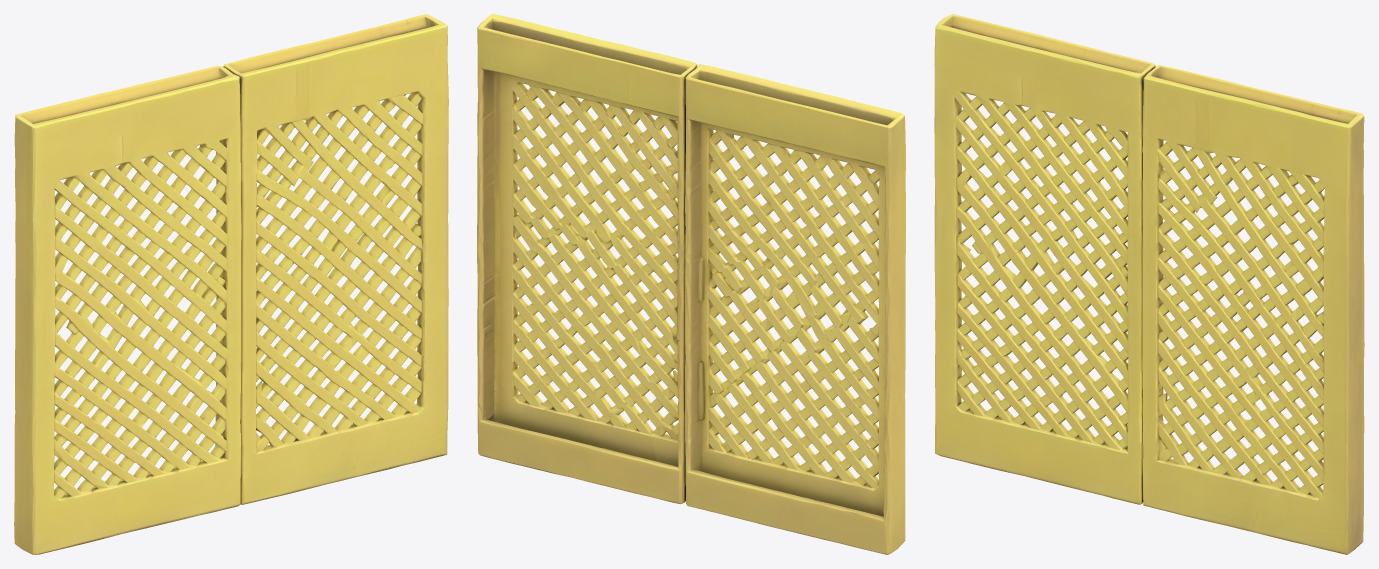
File: cabinet.glb
3 views of the same model, side by side, from view 1: azimuth 30°, elevation 25°; view 2: azimuth 150°, elevation 25°; view 3: azimuth 330°, elevation 25° (orthographic).
Visible parts, largest first — view 1: model; view 2: model; view 3: model.
Boxes of the visible parts, x1,y1,x2,y2 form: model: (14,14,448,554); model: (477,14,905,554); model: (934,14,1364,554).
Size of the model in its own units: 1.9 by 1.87 by 0.1597.
1 material, 1 textured.
